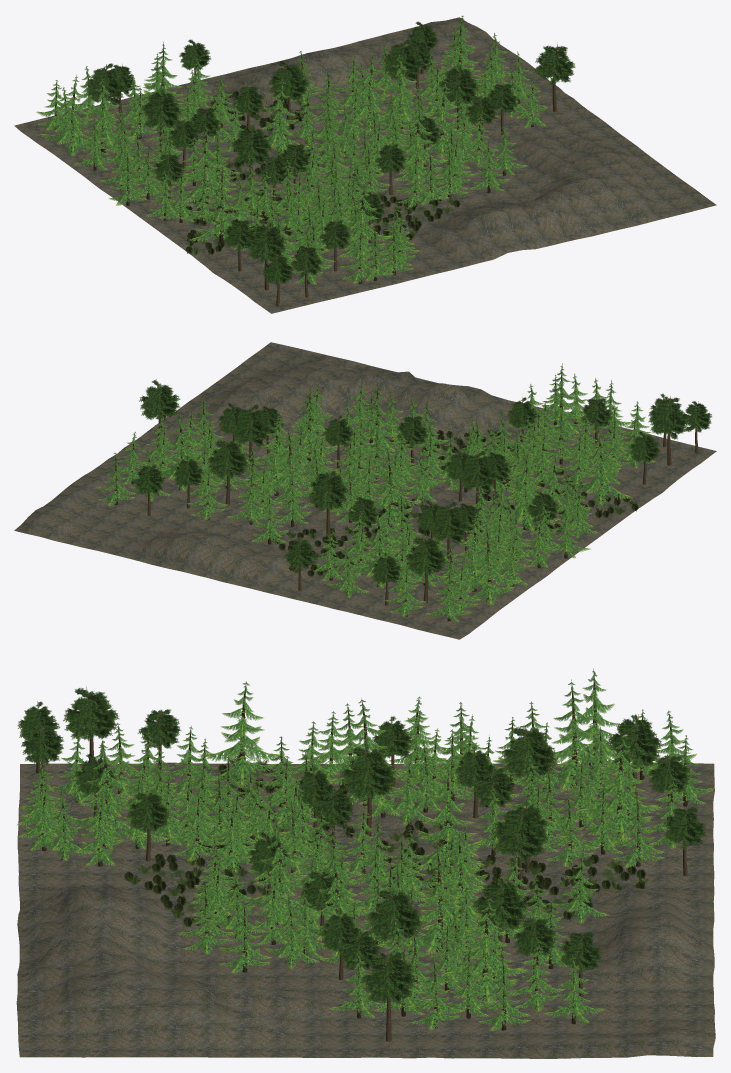
The model's file is forest.glb.
3 views of the same model, one above another, from view 1: azimuth 30°, elevation 25°; view 2: azimuth 150°, elevation 25°; view 3: azimuth 270°, elevation 25° (orthographic). The views are drawn at different scales.
Parts seen in each view (by area): view 1: Object_2, Object_3, Object_8, Object_13, Object_11, Object_14, Object_12; view 2: Object_2, Object_3, Object_8, Object_13, Object_11, Object_14, Object_12; view 3: Object_2, Object_3, Object_8, Object_13, Object_11, Object_14, Object_12, Object_10.
Boxes of the visible parts, x1=… form: Object_2: x1=14, y1=17, x2=716, y2=313; Object_3: x1=36, y1=16, x2=547, y2=284; Object_8: x1=85, y1=21, x2=575, y2=284; Object_13: x1=54, y1=15, x2=534, y2=284; Object_11: x1=182, y1=91, x2=460, y2=254; Object_14: x1=105, y1=22, x2=557, y2=306; Object_12: x1=186, y1=91, x2=456, y2=254; Object_2: x1=14, y1=342, x2=716, y2=639; Object_3: x1=96, y1=366, x2=656, y2=621; Object_8: x1=133, y1=380, x2=712, y2=583; Object_13: x1=114, y1=363, x2=637, y2=621; Object_11: x1=272, y1=430, x2=638, y2=576; Object_14: x1=147, y1=379, x2=698, y2=605; Object_12: x1=273, y1=429, x2=637, y2=573; Object_2: x1=16, y1=762, x2=715, y2=1058; Object_3: x1=16, y1=671, x2=714, y2=1031; Object_8: x1=17, y1=688, x2=706, y2=1003; Object_13: x1=39, y1=668, x2=687, y2=1030; Object_11: x1=124, y1=755, x2=646, y2=927; Object_14: x1=36, y1=687, x2=687, y2=1041; Object_12: x1=127, y1=757, x2=648, y2=926; Object_10: x1=155, y1=769, x2=617, y2=913.
Bounding box in the file's own units: 16.73 × 2.75 × 16.22.
8 materials, 8 textured.
